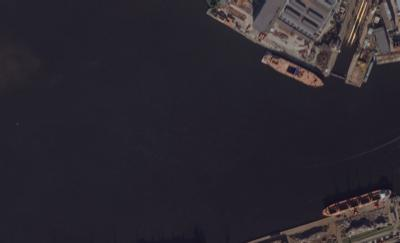Ships: (256, 48, 328, 94)
